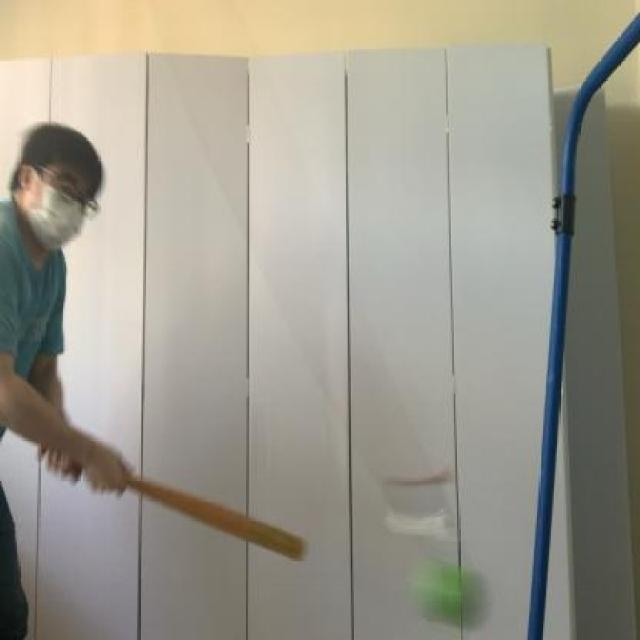baseball: (412, 554, 494, 628)
